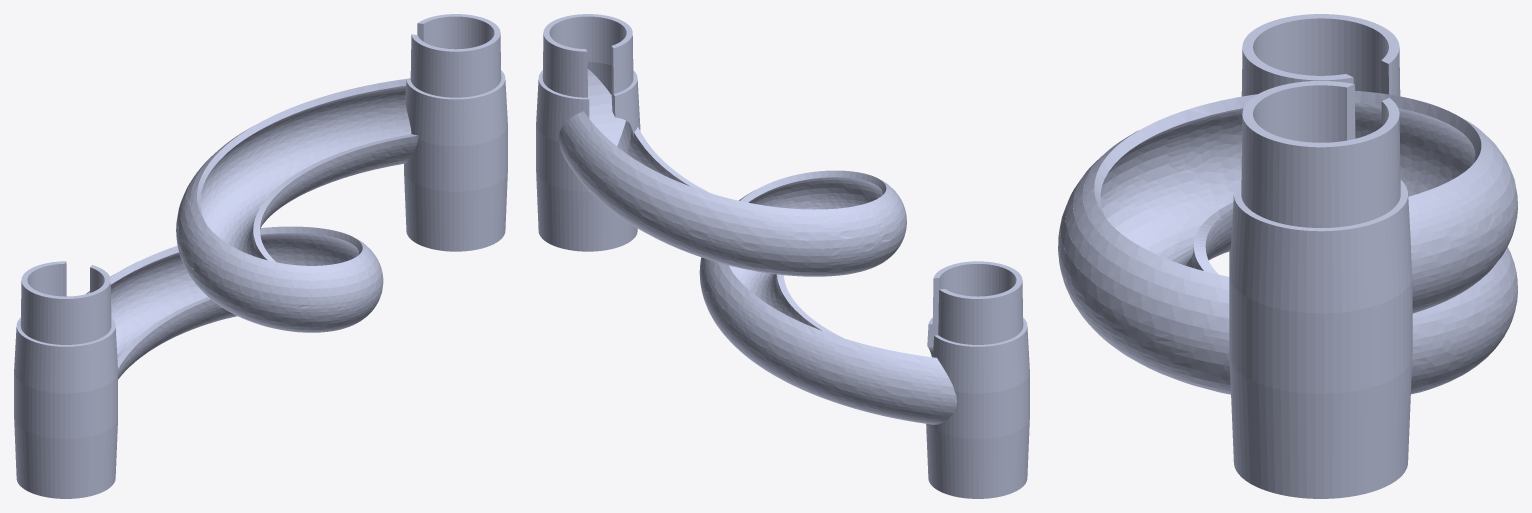
Rendered from Limacon.FBX.
3 views of the same model, side by side, from view 1: azimuth 30°, elevation 25°; view 2: azimuth 150°, elevation 25°; view 3: azimuth 270°, elevation 25° (orthographic). The views are drawn at different scales.
Parts seen in each view (by area): view 1: Limacon.SLDPRT|:|BE2D7FBC922C0B74C4B594D9BE839E49EA172AA8|:|; view 2: Limacon.SLDPRT|:|BE2D7FBC922C0B74C4B594D9BE839E49EA172AA8|:|; view 3: Limacon.SLDPRT|:|BE2D7FBC922C0B74C4B594D9BE839E49EA172AA8|:|.
Part boxes in pixels (x1,y1,x2,y2): Limacon.SLDPRT|:|BE2D7FBC922C0B74C4B594D9BE839E49EA172AA8|:|: [14, 14, 507, 498]; Limacon.SLDPRT|:|BE2D7FBC922C0B74C4B594D9BE839E49EA172AA8|:|: [536, 14, 1029, 498]; Limacon.SLDPRT|:|BE2D7FBC922C0B74C4B594D9BE839E49EA172AA8|:|: [1058, 14, 1517, 498].
Size of the model in its own units: 6.5 by 3.06 by 4.53.
